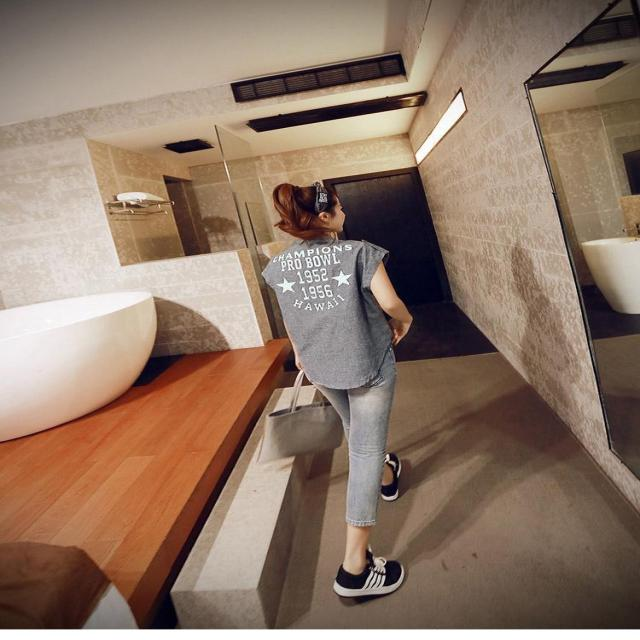short-sleeve-top: (235, 243, 447, 399)
trousers: (248, 402, 446, 532)
